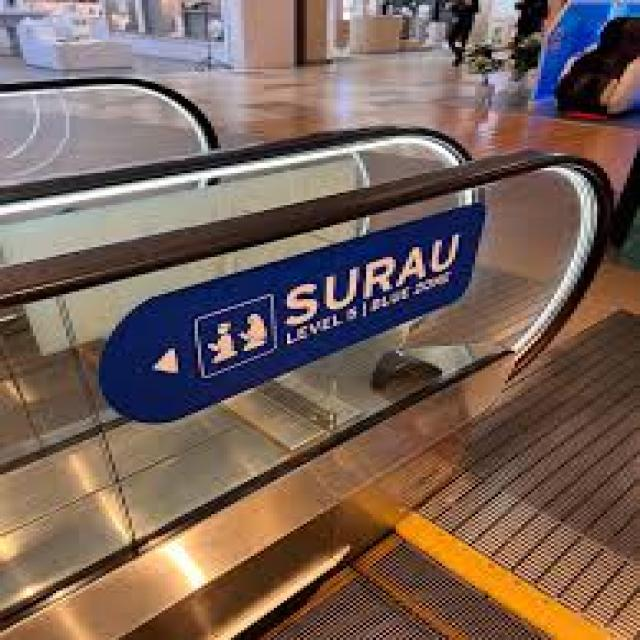surau_icon: (203, 307, 274, 369)
